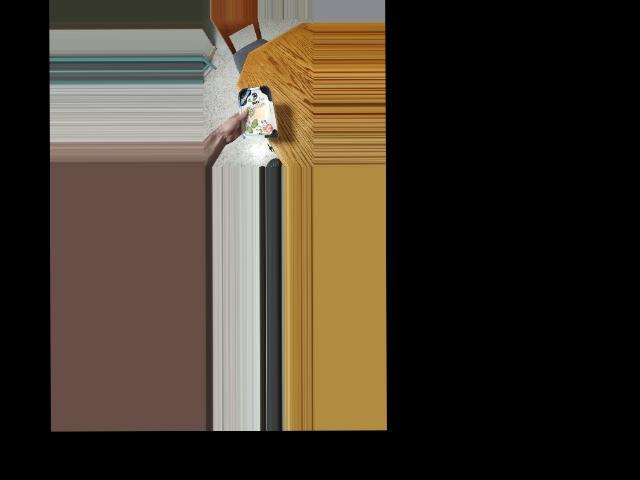cheese: (231, 87, 278, 139)
